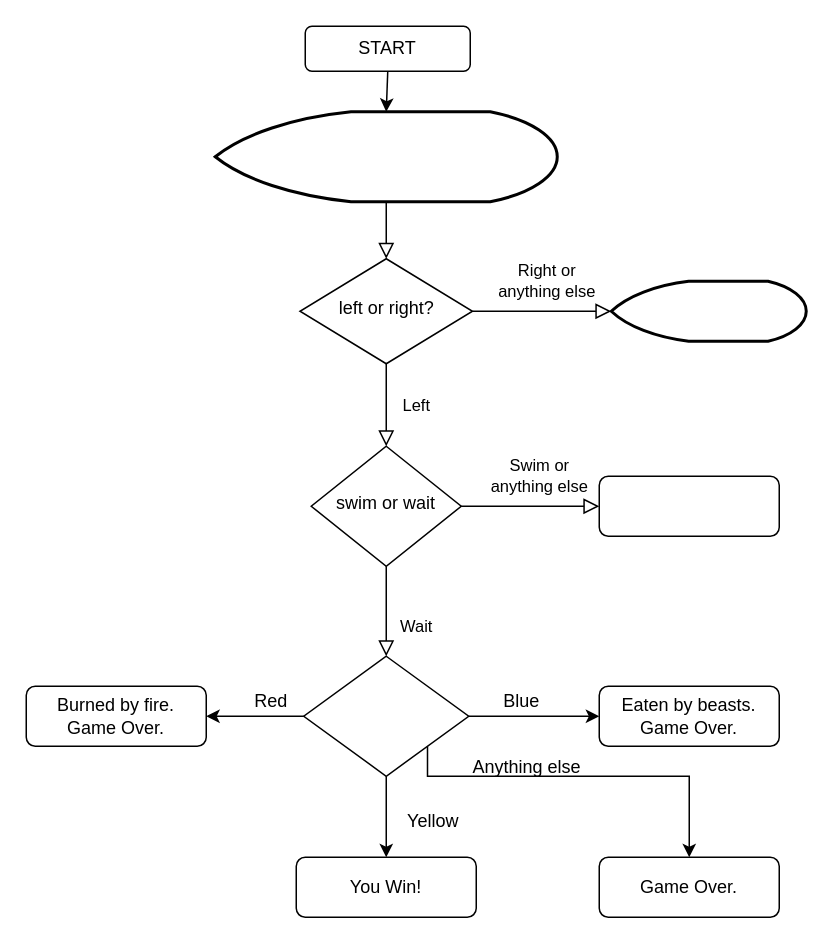
Image size: 834x944. Some labels were removed from this diagram. Each missing label, with the centre of its shape:
Attacked by trout. Game Over.: [688,505]
Fall into a hole. Game Over.: [708,310]
Welcome to Treasure Island. Your mission is to find the treasure.: [385,156]
Which door?: [385,715]
